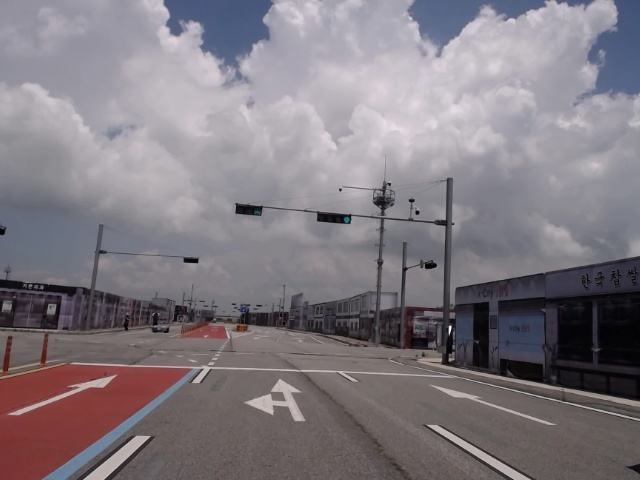straight_green_4: (317, 211, 351, 225)
